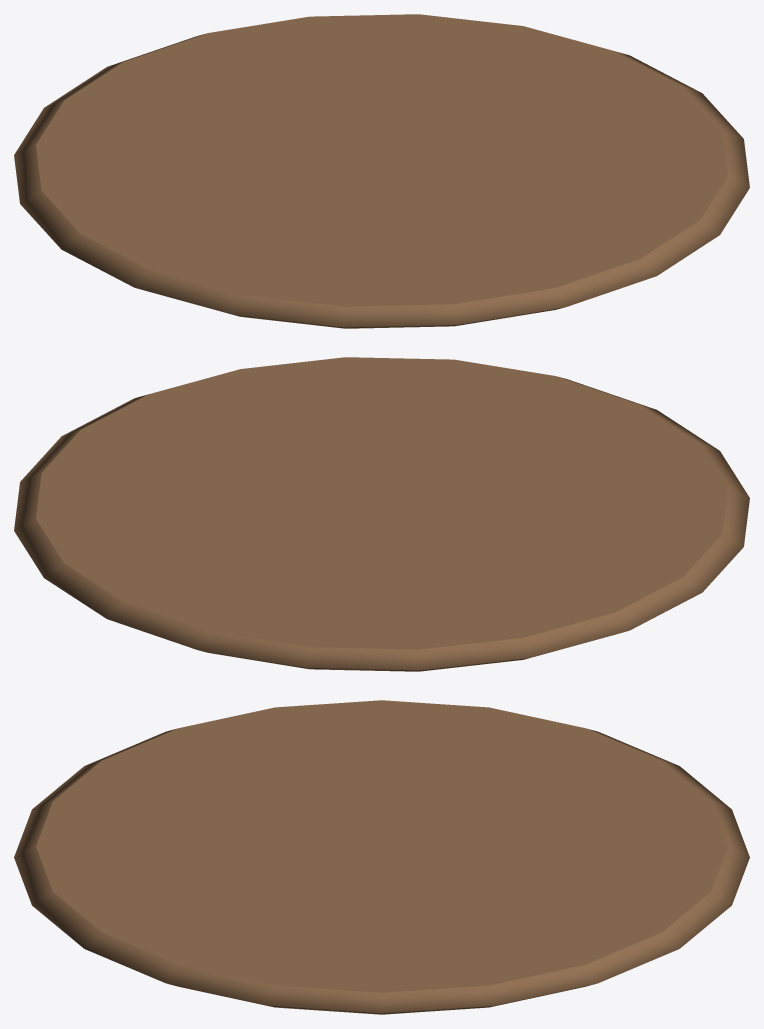
File: StroopWafle.fbx
The picture shows the model from 3 angles, top to bottom: view 1: azimuth 30°, elevation 25°; view 2: azimuth 150°, elevation 25°; view 3: azimuth 270°, elevation 25°; orthographic projection.
Visible parts, largest first — view 1: Stroopwaffel; view 2: Stroopwaffel; view 3: Stroopwaffel.
Boxes of the visible parts, <box> form: Stroopwaffel: <box>14,14,749,328</box>; Stroopwaffel: <box>14,357,749,671</box>; Stroopwaffel: <box>14,700,749,1014</box>.
Bounding box in the file's own units: 3.01 × 0.0992 × 3.01.
